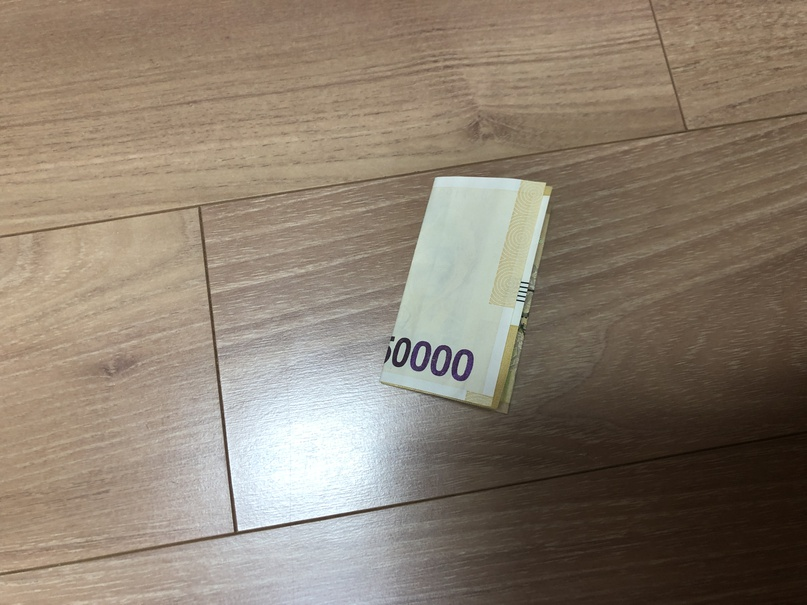50000won: (378, 176, 554, 414)
